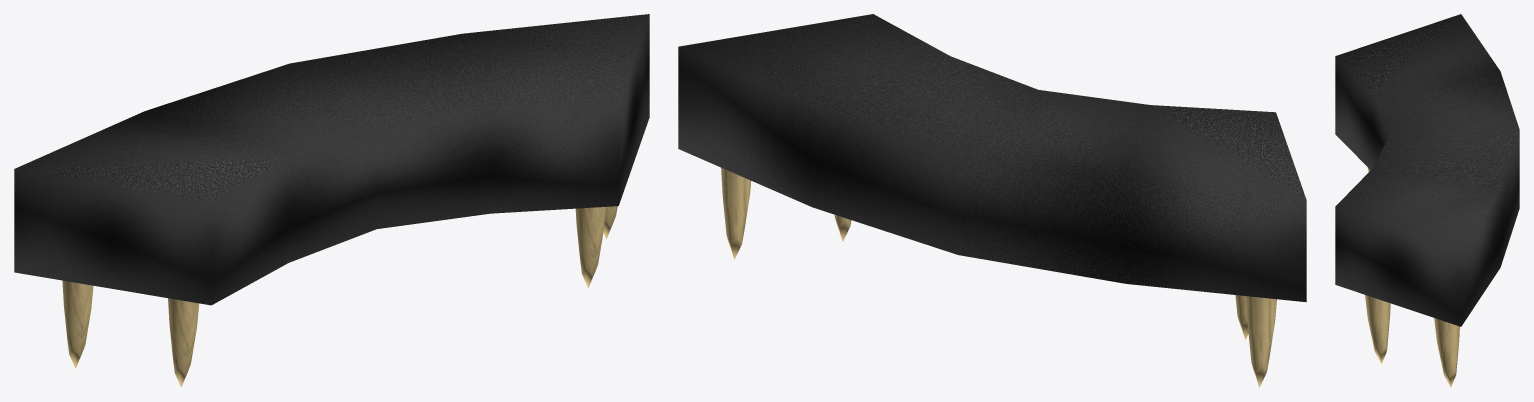
File: Coach.fbx
The picture shows the model from 3 angles, left to right: view 1: azimuth 30°, elevation 25°; view 2: azimuth 150°, elevation 25°; view 3: azimuth 270°, elevation 25°; orthographic projection. The views are drawn at different scales.
Parts seen in each view (by area): view 1: coach, leg2, leg3, leg4; view 2: coach, leg3, leg5; view 3: coach, leg5, leg4.
Boxes of the visible parts, x1,y1,x2,y2 form: coach: (14, 14, 649, 305); leg2: (168, 298, 199, 387); leg3: (62, 280, 93, 368); leg4: (575, 207, 605, 287); coach: (678, 14, 1306, 302); leg3: (1246, 296, 1276, 387); leg5: (721, 167, 751, 259); coach: (1335, 14, 1519, 326); leg5: (1434, 318, 1459, 387); leg4: (1365, 295, 1390, 363).
Size of the model in its own units: 3.62 by 1.14 by 1.2.
